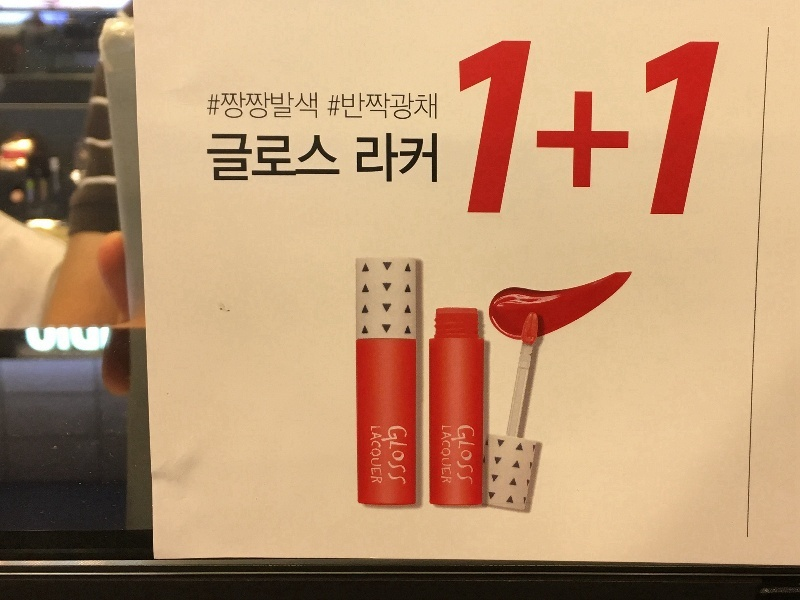text: (465, 36, 480, 222), (481, 36, 496, 222), (497, 36, 512, 222), (513, 36, 528, 222), (529, 36, 544, 222), (545, 36, 560, 222), (561, 36, 576, 222), (577, 36, 592, 222), (593, 36, 608, 222), (609, 36, 624, 222), (625, 36, 640, 222), (641, 36, 656, 222), (657, 36, 672, 222), (673, 36, 688, 222), (689, 36, 704, 222), (705, 36, 720, 222), (449, 424, 464, 486), (385, 425, 400, 486), (370, 426, 384, 484), (209, 131, 224, 185), (225, 131, 240, 185), (241, 131, 256, 185), (257, 131, 272, 185), (273, 131, 288, 185), (289, 131, 304, 185), (305, 131, 320, 185), (321, 131, 336, 185), (369, 131, 384, 185), (385, 131, 400, 185), (401, 131, 416, 185), (417, 131, 432, 185), (460, 36, 464, 222), (721, 36, 725, 222), (356, 131, 368, 185), (465, 424, 475, 486), (209, 91, 224, 121), (225, 91, 240, 121), (241, 91, 256, 121), (257, 91, 272, 121), (273, 91, 288, 121), (289, 91, 304, 121), (337, 92, 352, 122), (353, 92, 368, 122), (369, 92, 384, 122), (385, 92, 400, 122), (401, 92, 416, 122), (417, 92, 432, 122), (33, 326, 48, 355), (49, 326, 64, 355), (65, 326, 80, 355), (81, 326, 96, 355), (401, 425, 408, 486), (305, 91, 319, 121), (441, 425, 448, 484), (337, 131, 344, 185), (97, 326, 110, 355), (433, 131, 439, 185), (23, 326, 32, 355), (329, 92, 336, 122), (381, 425, 384, 486), (433, 92, 439, 122), (449, 425, 452, 484), (205, 131, 208, 185)
